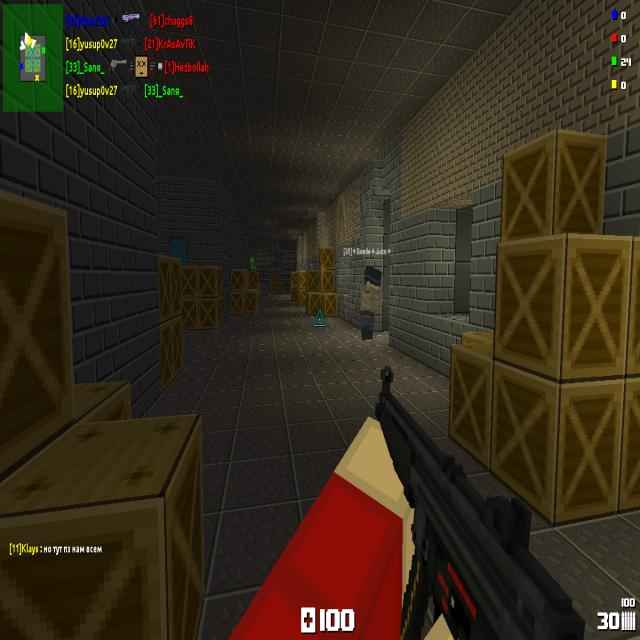enemy: (249, 254, 257, 270)
